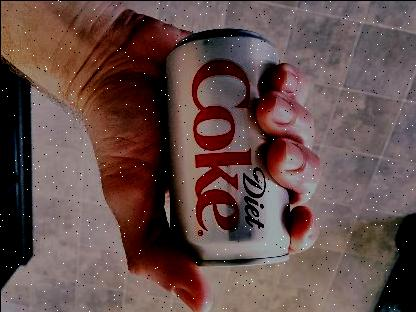Can: (164, 26, 292, 268)
